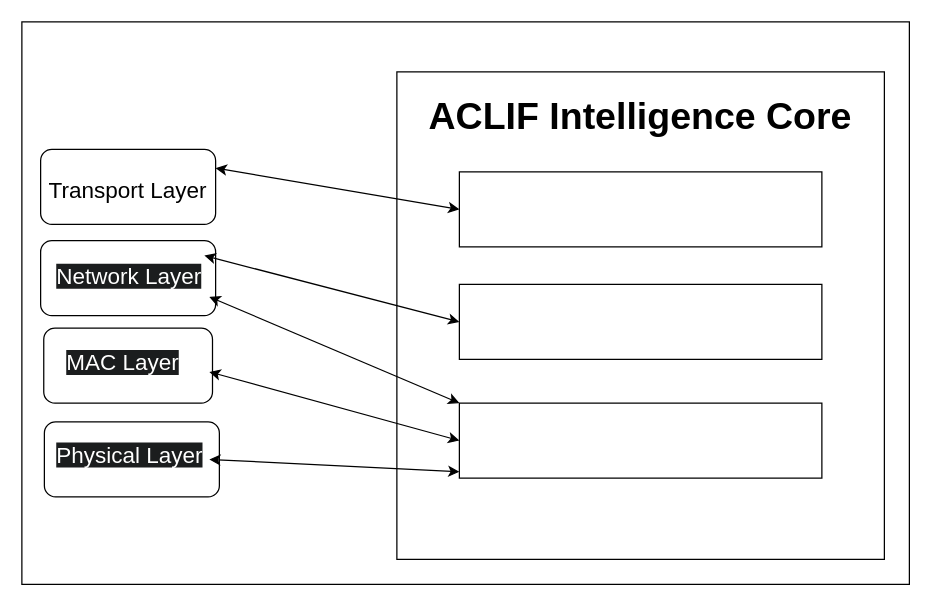
The diagram is 931 pixels wide and 606 high, and some of its shapes have lost their labels. Each missing label, with the centre of its shape:
APR (Adaptive Protocol Recognition): point (640, 440)
ICSA (Intelligent Cross-Layer State Aggregation): point (640, 209)
RLJO (RL-Based Joint Optimizarion): point (640, 321)
